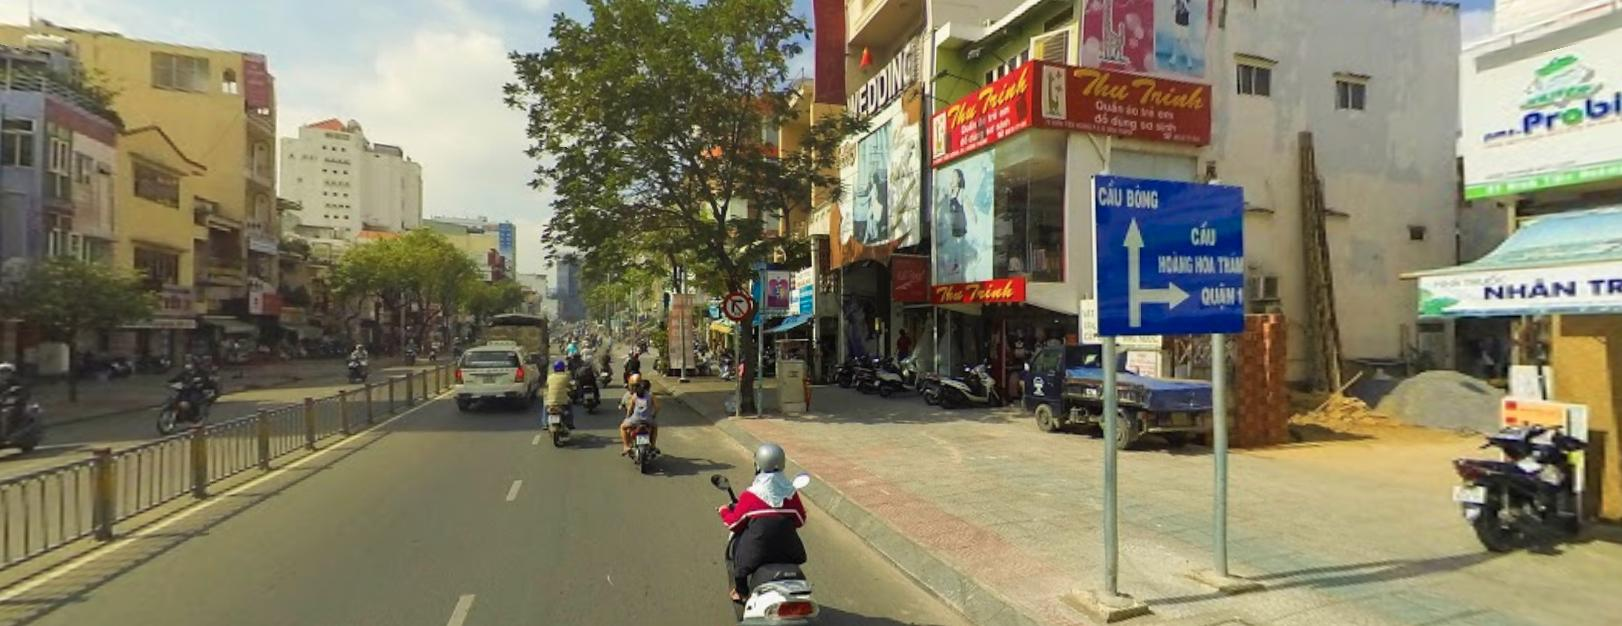Cam re: (722, 290, 750, 319)
